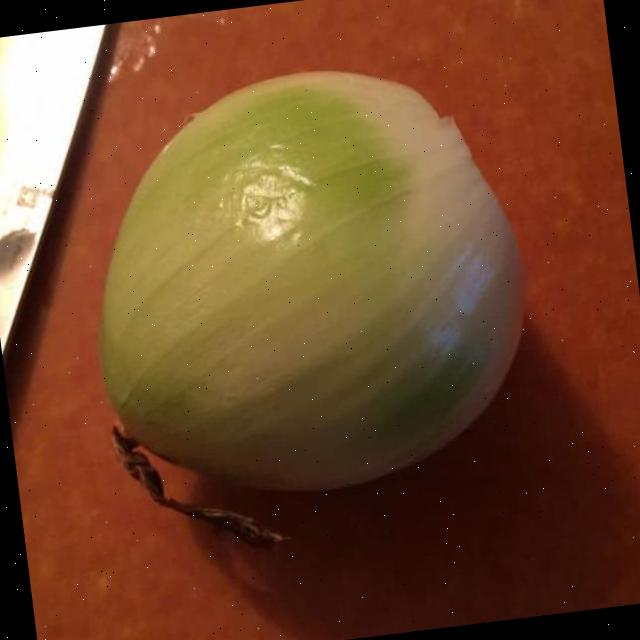Onion: (99, 71, 525, 491)
